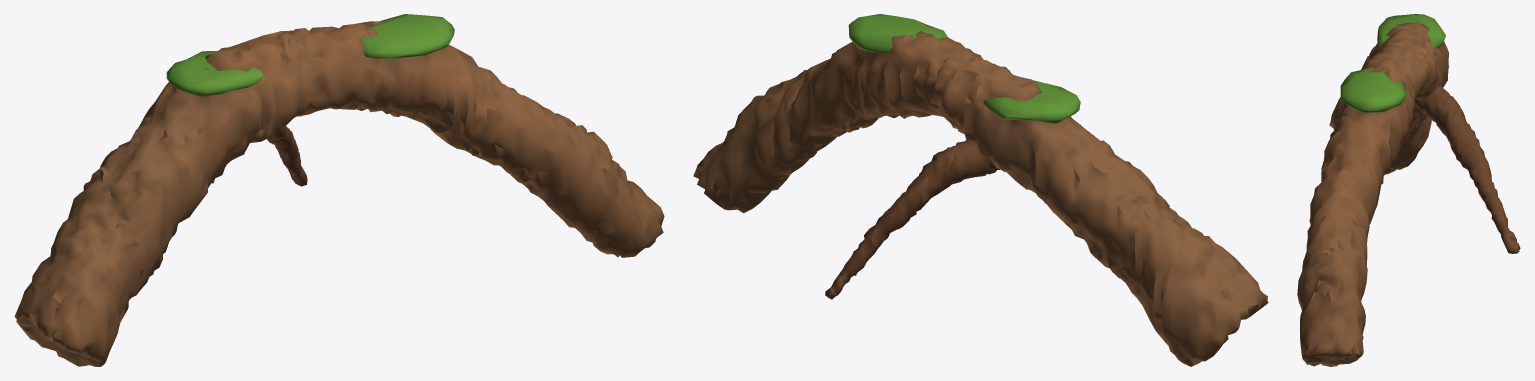
Rendered from glade_root_arch.glb.
The picture shows the model from 3 angles, left to right: view 1: azimuth 30°, elevation 25°; view 2: azimuth 150°, elevation 25°; view 3: azimuth 270°, elevation 25°; orthographic projection. The views are drawn at different scales.
Parts seen in each view (by area): view 1: glade_root_arch; view 2: glade_root_arch; view 3: glade_root_arch.
Boxes of the visible parts, x1,y1,x2,y2 form: glade_root_arch: (14,14,664,366); glade_root_arch: (693,14,1268,366); glade_root_arch: (1297,14,1520,366).
Bounding box in the file's own units: 16.16 × 7 × 6.29.
